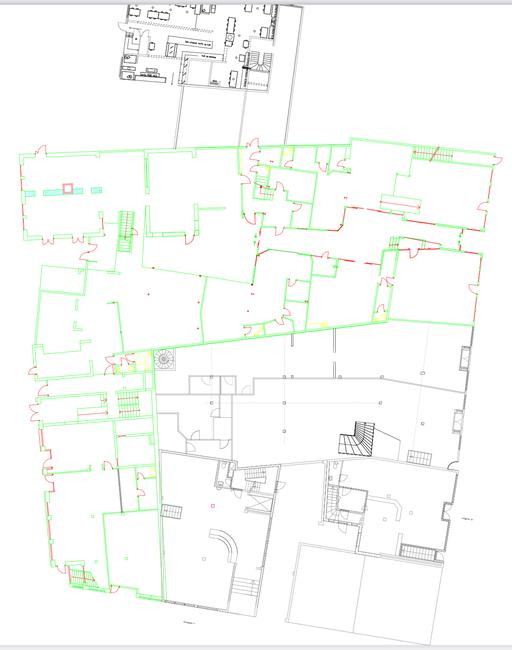room: (353, 554, 443, 645), (286, 543, 366, 633), (388, 249, 481, 325), (103, 510, 162, 598), (148, 150, 198, 234), (41, 420, 118, 473), (24, 189, 103, 238), (194, 147, 242, 209), (33, 341, 92, 379), (39, 393, 107, 424), (268, 166, 317, 204), (40, 265, 87, 294), (116, 434, 156, 467), (157, 413, 187, 454), (186, 439, 232, 461), (283, 300, 308, 332), (373, 283, 393, 322), (115, 417, 154, 436), (328, 146, 351, 175), (285, 278, 310, 303), (291, 201, 313, 229), (189, 376, 221, 395), (311, 255, 338, 277), (264, 317, 294, 336), (258, 146, 283, 167), (133, 350, 154, 372), (213, 417, 232, 440), (315, 146, 332, 164), (244, 324, 265, 338), (280, 147, 294, 168), (220, 376, 236, 394), (220, 395, 232, 417), (115, 364, 136, 373), (257, 164, 270, 177)
